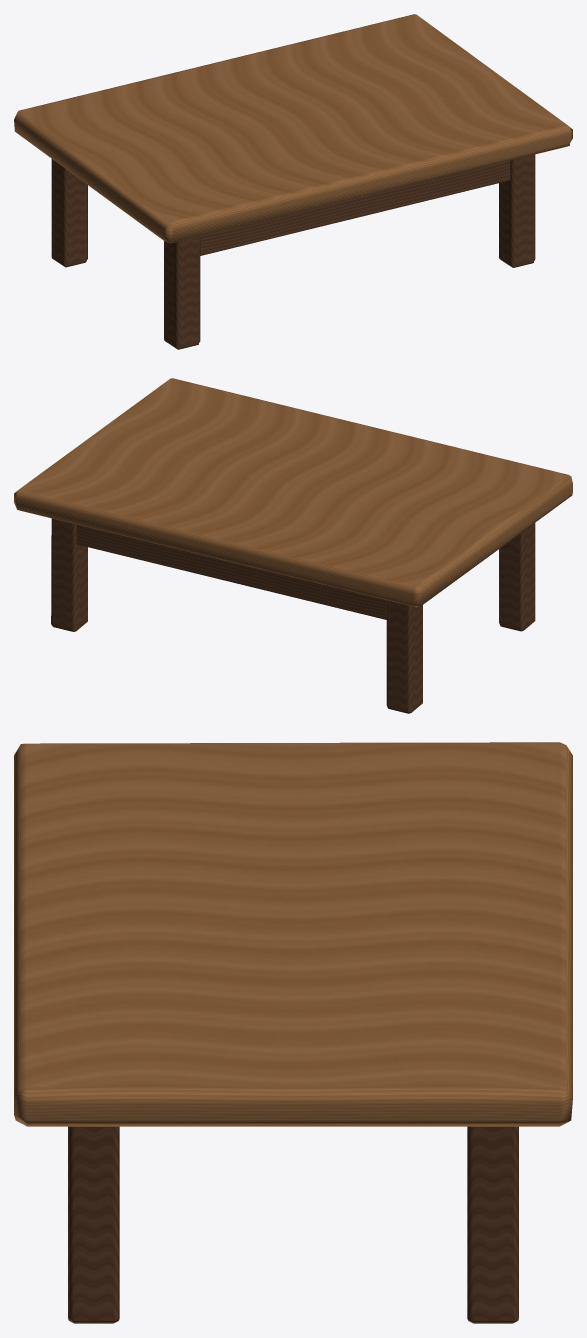
Rendered from low_table.gltf.
3 views of the same model, one above another, from view 1: azimuth 30°, elevation 25°; view 2: azimuth 150°, elevation 25°; view 3: azimuth 270°, elevation 25° (orthographic). The views are drawn at different scales.
Bounding box in the file's own units: 1.05 × 0.3525 × 0.7.
2 materials, 2 textured.
